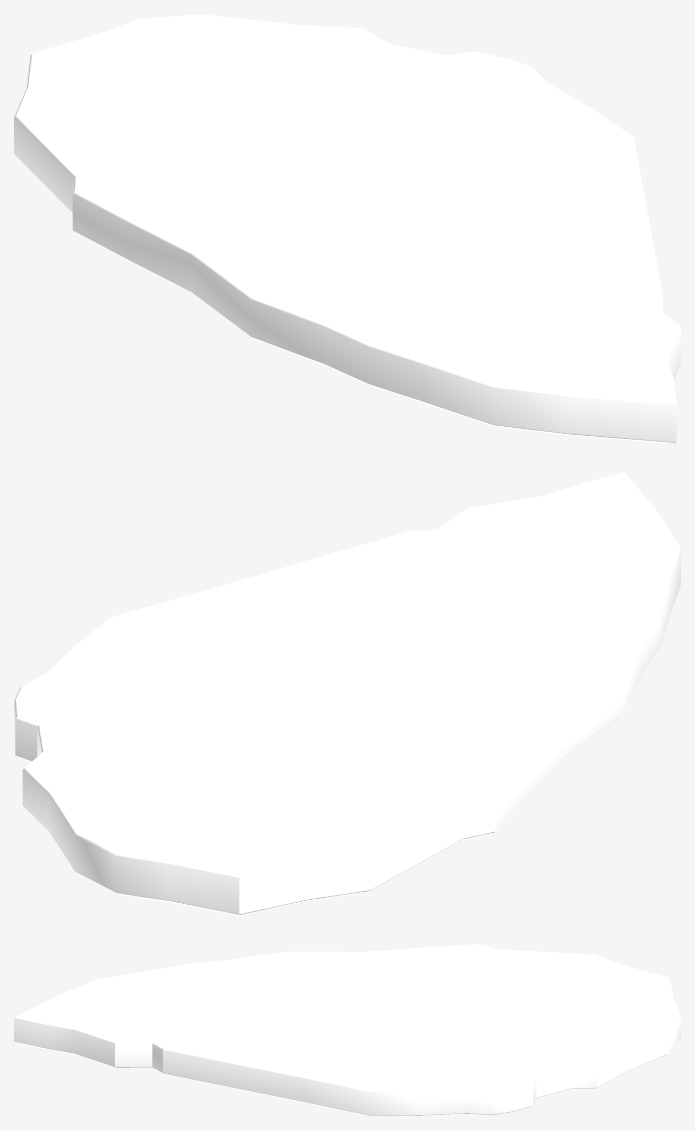
The model's file is ice_floe_large_006.glb.
3 renders of one model, top to bottom at view 1: azimuth 30°, elevation 25°; view 2: azimuth 150°, elevation 25°; view 3: azimuth 270°, elevation 25°, orthographic. The views are drawn at different scales.
Parts seen in each view (by area): view 1: ice_floe_large_006; view 2: ice_floe_large_006; view 3: ice_floe_large_006.
Part boxes in pixels (bbox=[...]): ice_floe_large_006: bbox=[14, 14, 680, 443]; ice_floe_large_006: bbox=[14, 472, 680, 915]; ice_floe_large_006: bbox=[14, 944, 680, 1116].
Bounding box in the file's own units: 11.31 × 0.9944 × 21.64.
1 material, 1 textured.
